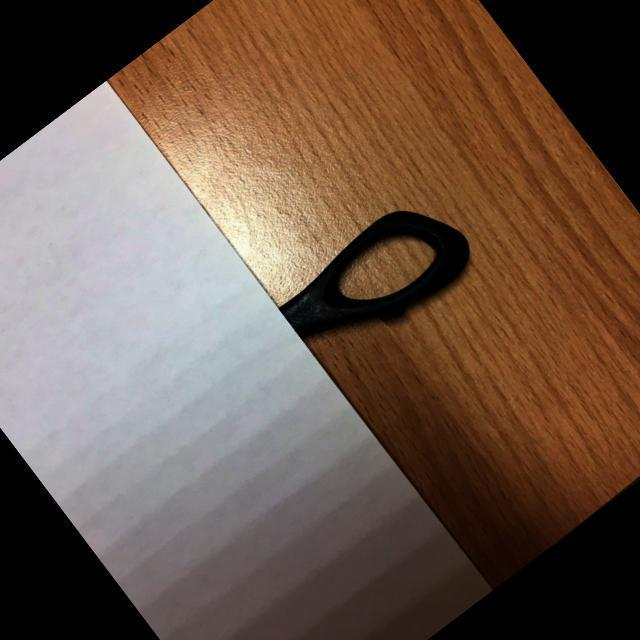scissors: (274, 182, 484, 376)
